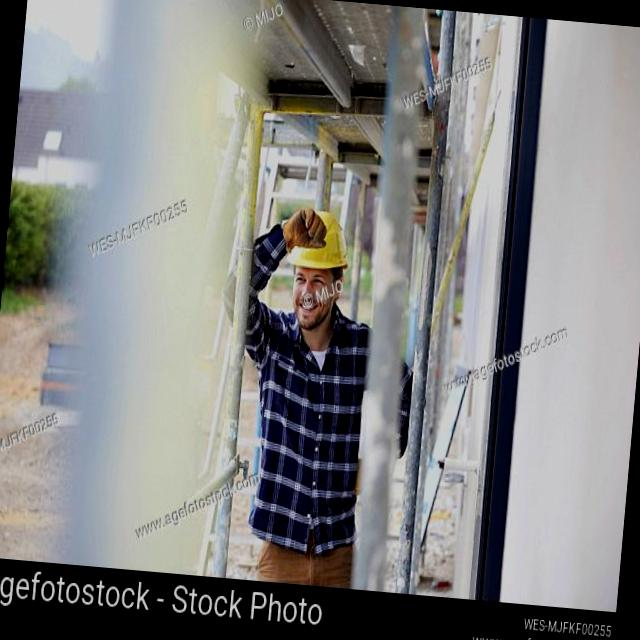helmet: (284, 188, 355, 278)
no-goggles: (282, 260, 344, 302)
no-vest: (242, 320, 370, 553)
